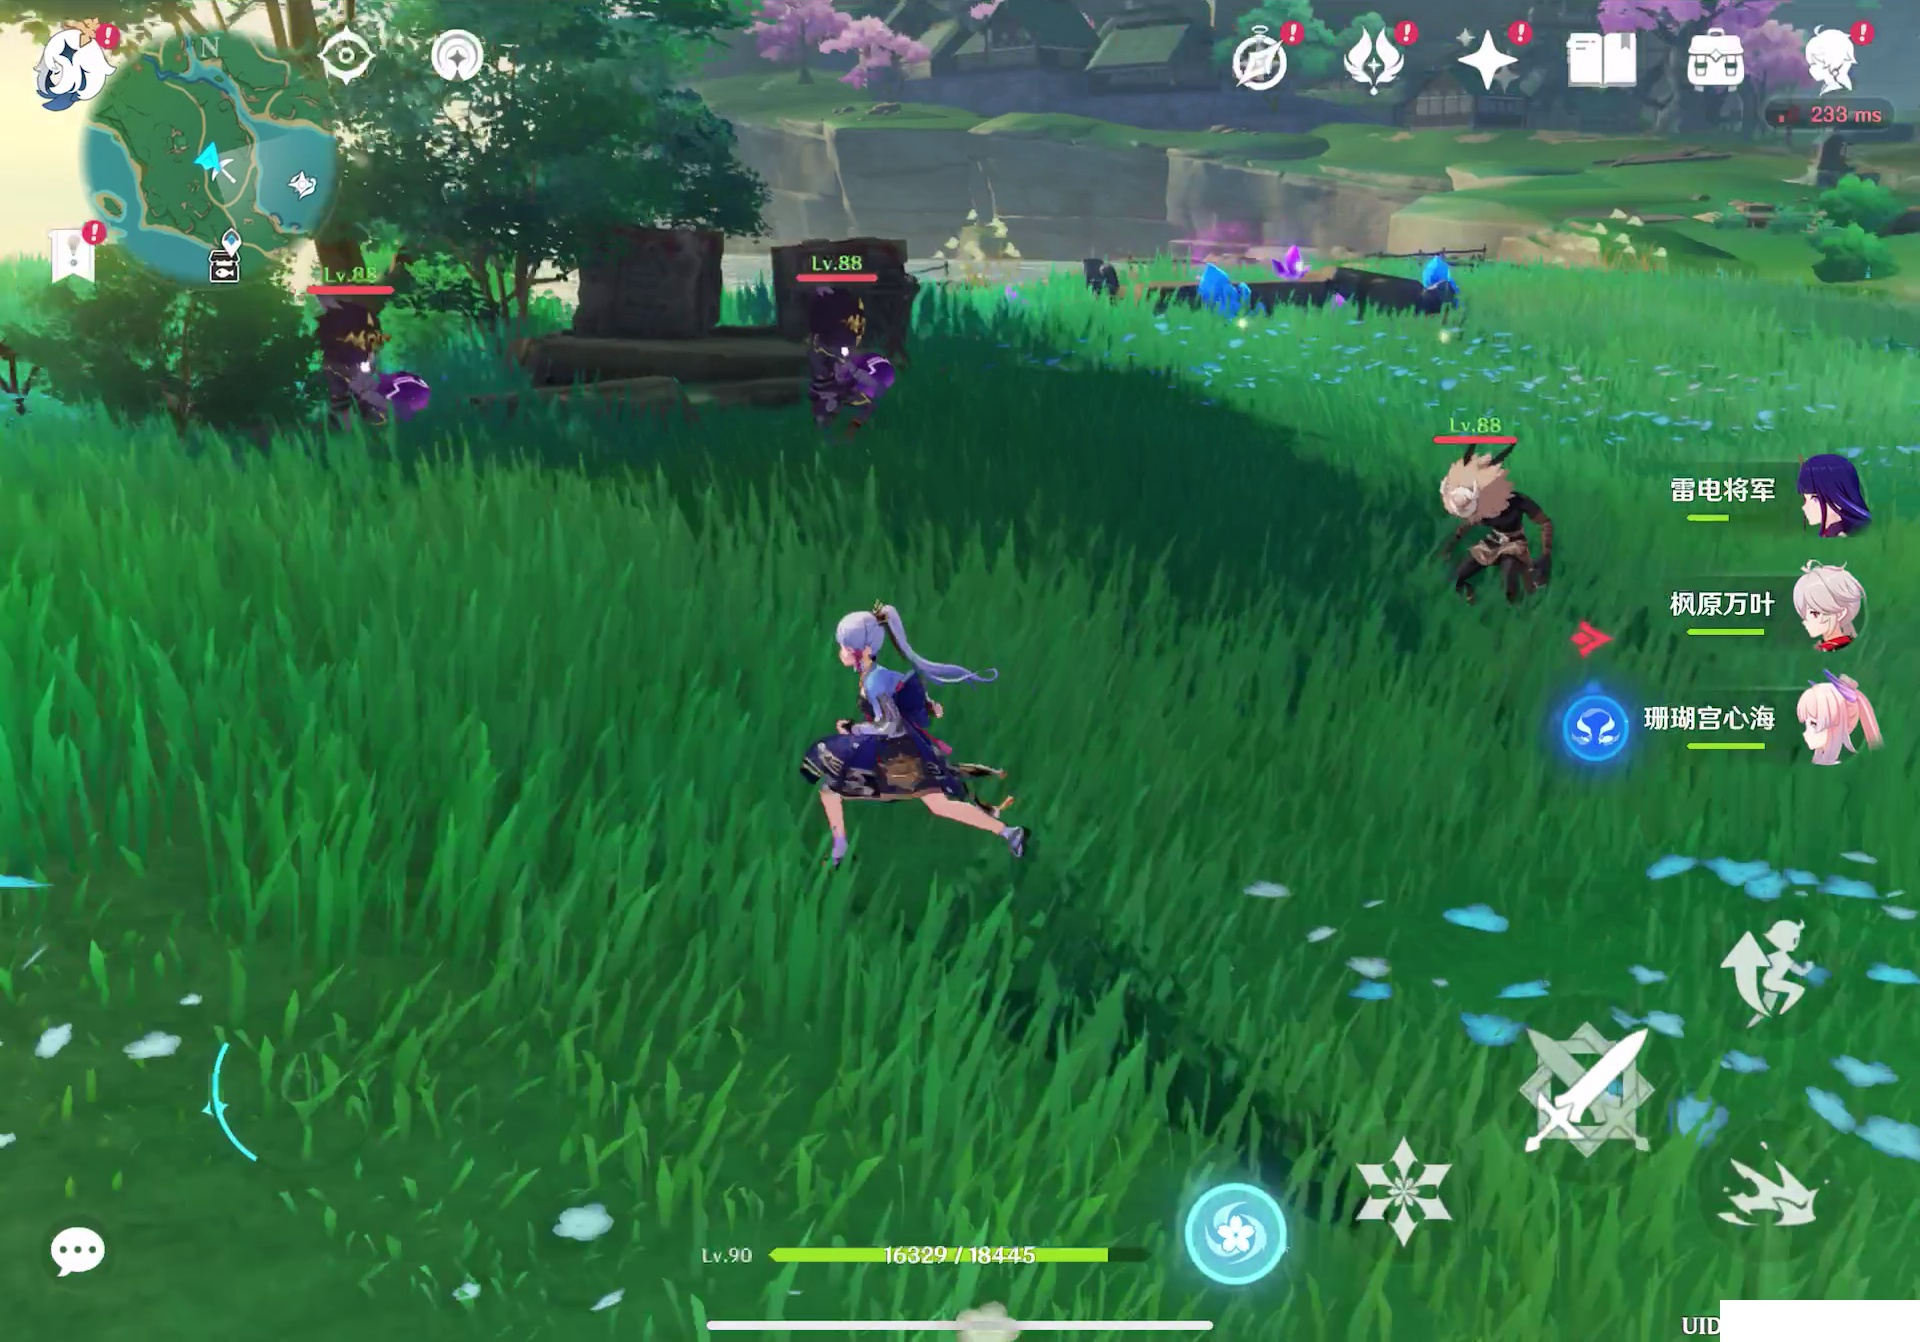丘丘人: (1430, 449, 1567, 605), (794, 287, 926, 435), (302, 296, 422, 430)
神里绫龟: (781, 591, 1031, 866)
